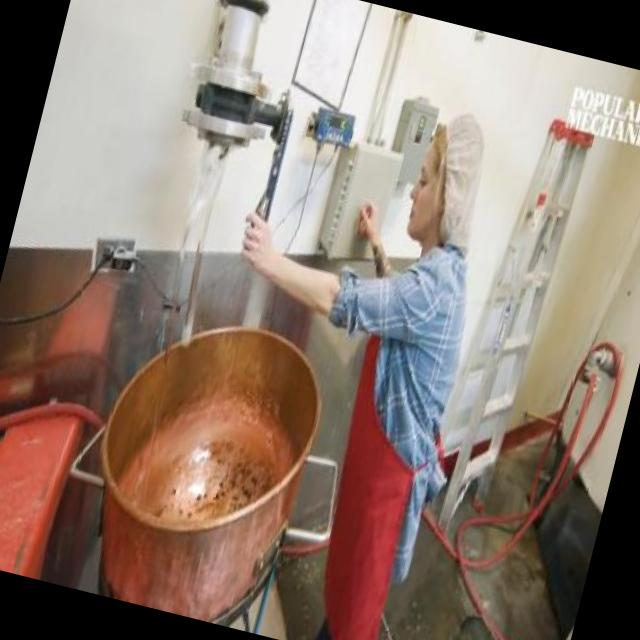hairnet: (406, 111, 496, 236)
